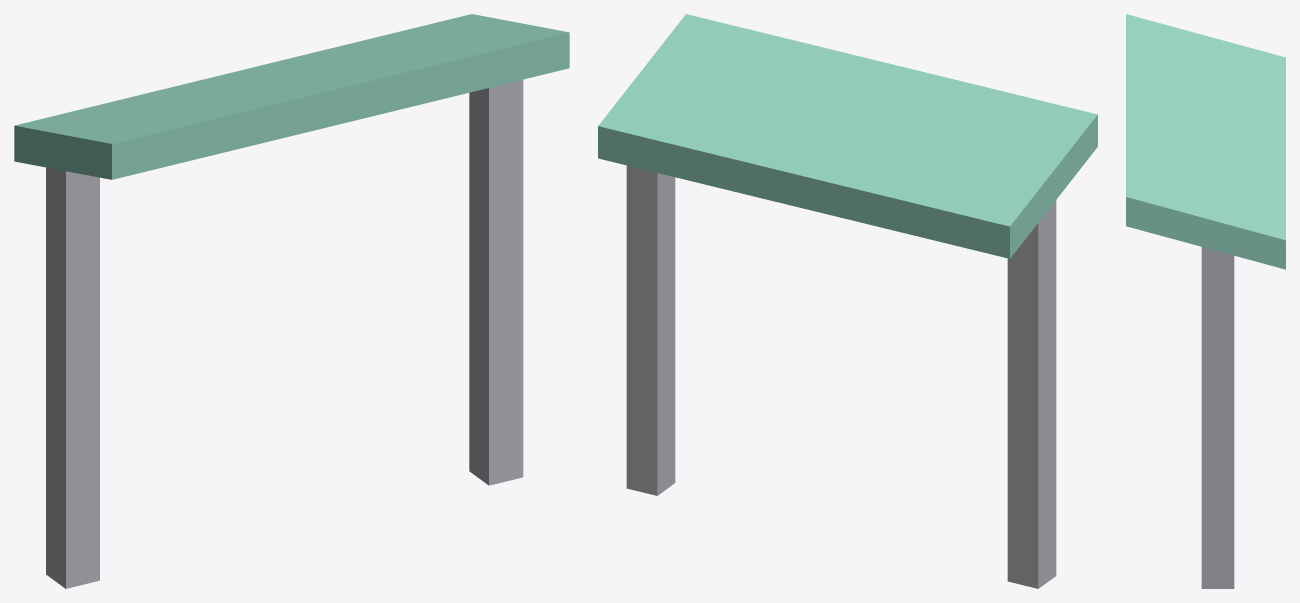
The model's file is detail_awning.glb.
3 views of the same model, side by side, from view 1: azimuth 30°, elevation 25°; view 2: azimuth 150°, elevation 25°; view 3: azimuth 270°, elevation 25° (orthographic). The views are drawn at different scales.
Parts seen in each view (by area): view 1: detail_awning; view 2: detail_awning; view 3: detail_awning.
Part boxes in pixels (left/top/right/bottom): detail_awning: left=14, top=14, right=569, bottom=588; detail_awning: left=598, top=14, right=1097, bottom=588; detail_awning: left=1126, top=14, right=1285, bottom=588.
Bounding box in the file's own units: 0.4 × 0.4 × 0.1479.
